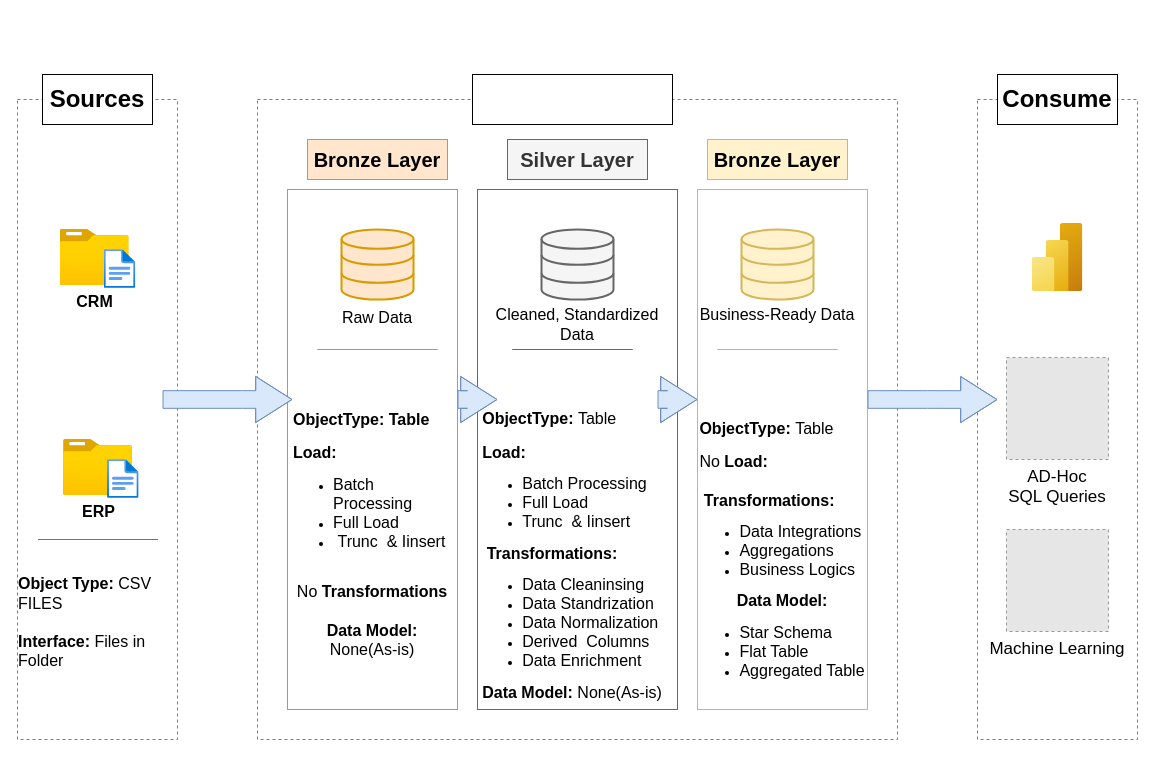
This 1155x757 diagram has some shape labels left out. Grey dashed boxes stand in for pictures. The centre of each missing label's shape, as x and y in pixels:
"BI & Reporting" goes at (1057,257).
"Date Warehouse" goes at (572,99).
